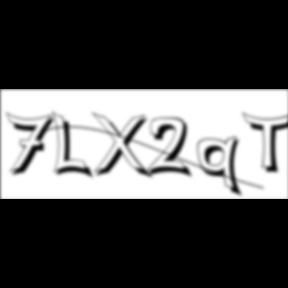2: (147, 117, 197, 181)
7: (6, 111, 60, 179)
L: (52, 110, 96, 182)
X: (92, 112, 156, 182)
q: (198, 135, 246, 200)
